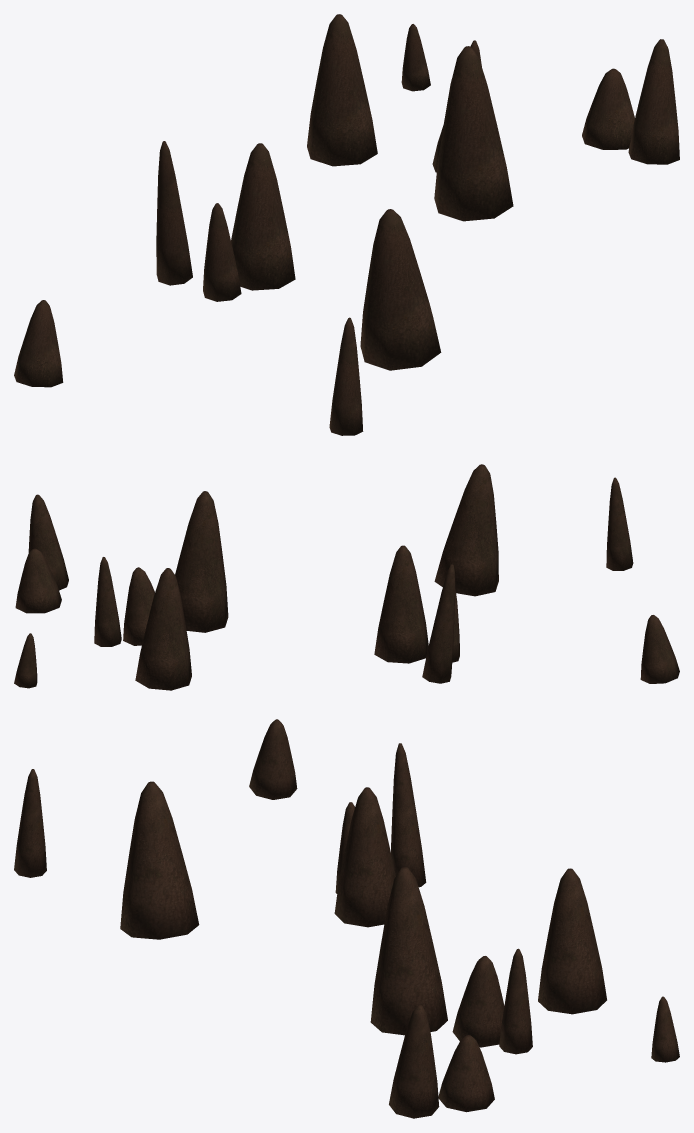
The model's file is baldcypress_knees_v02.glb.
3 views of the same model, one above another, from view 1: azimuth 30°, elevation 25°; view 2: azimuth 150°, elevation 25°; view 3: azimuth 270°, elevation 25° (orthographic). The views are drawn at different scales.
Visible parts, largest first — view 1: baldcypress_knees_v02; view 2: baldcypress_knees_v02; view 3: baldcypress_knees_v02.
Part boxes in pixels (left/top/right/bottom): baldcypress_knees_v02: left=14, top=14, right=679, bottom=435; baldcypress_knees_v02: left=14, top=464, right=679, bottom=690; baldcypress_knees_v02: left=14, top=719, right=679, bottom=1118.
Size of the model in its own units: 3.93 by 0.8332 by 3.26.
1 material, 1 textured.
